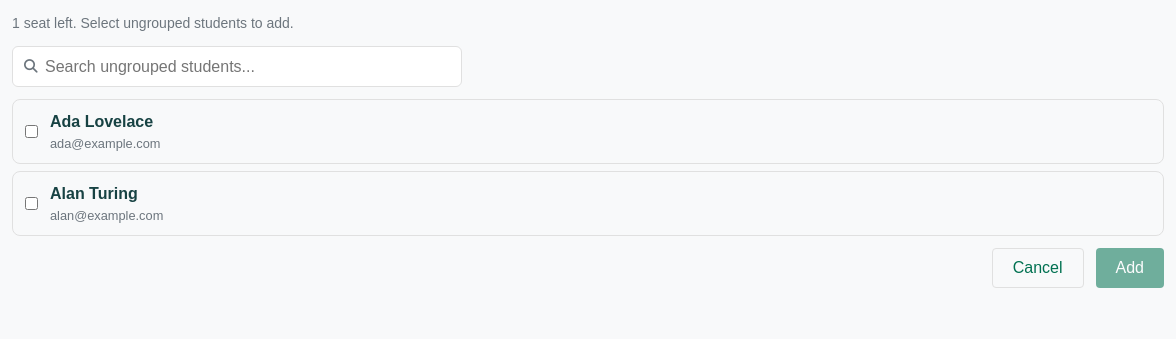
it: GroupAddStudents › warns and blocks when more students are picked than there are seats, until one is unticked
Click the checkbox labelled "Ada Lovelace ada@example.com": (32, 132) [25, 125, 38, 138]
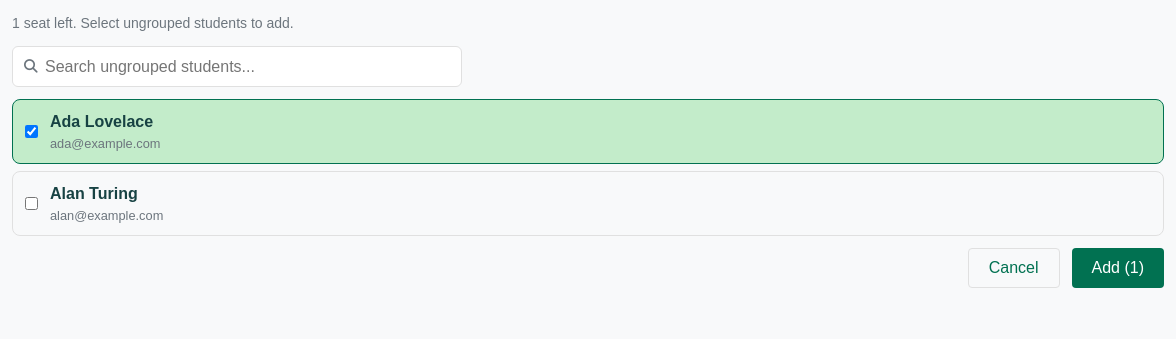
Click the checkbox labelled "Alan Turing alan@example.com": (32, 204) [25, 197, 38, 210]
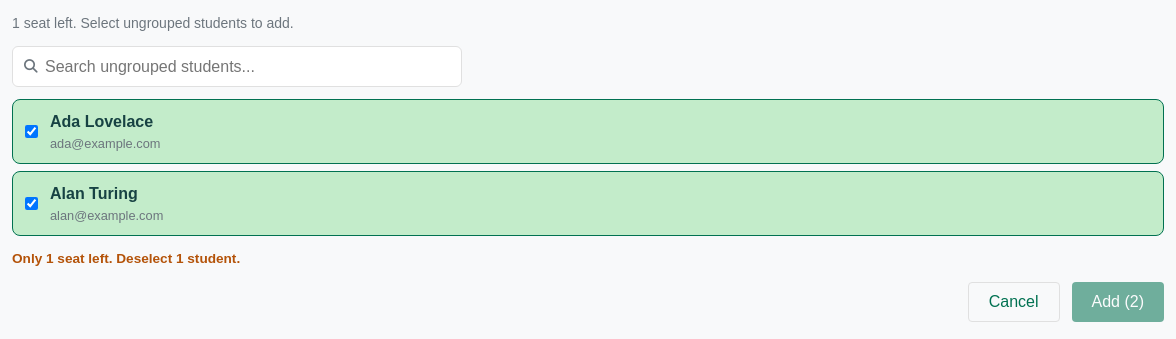
Expected: the text with class "group-add__overflow" reads "Only 1 seat left. Deselect 1 student.", [12, 252, 240, 266]
Expected: the button "Add (2)" is disabled, [1072, 282, 1164, 322]
Click the checkbox labelled "Alan Turing alan@example.com": (32, 204) [25, 197, 38, 210]
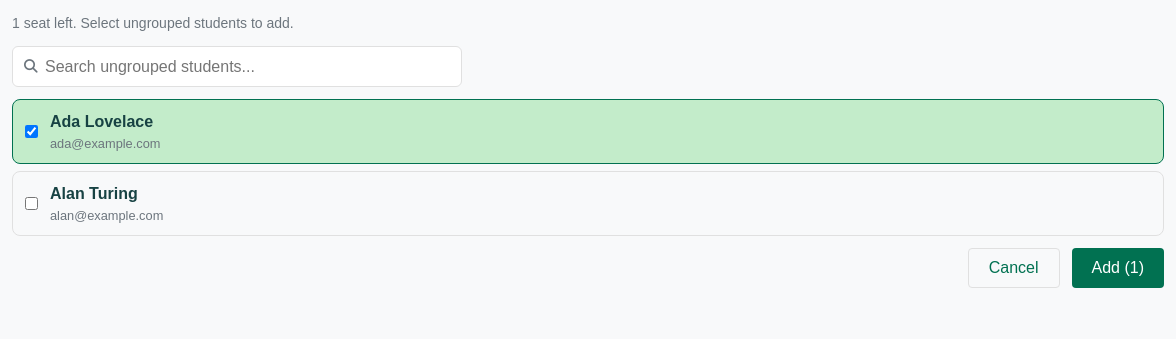
Expected: the button "Add (1)" is enabled, [1072, 248, 1164, 288]
